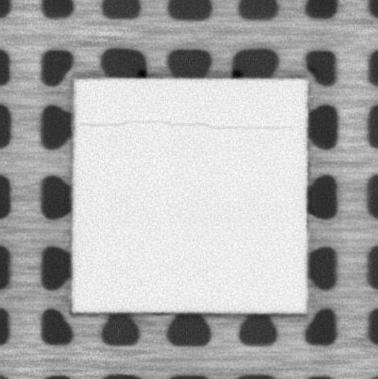DIE_CRACK: (77, 118, 294, 132)
